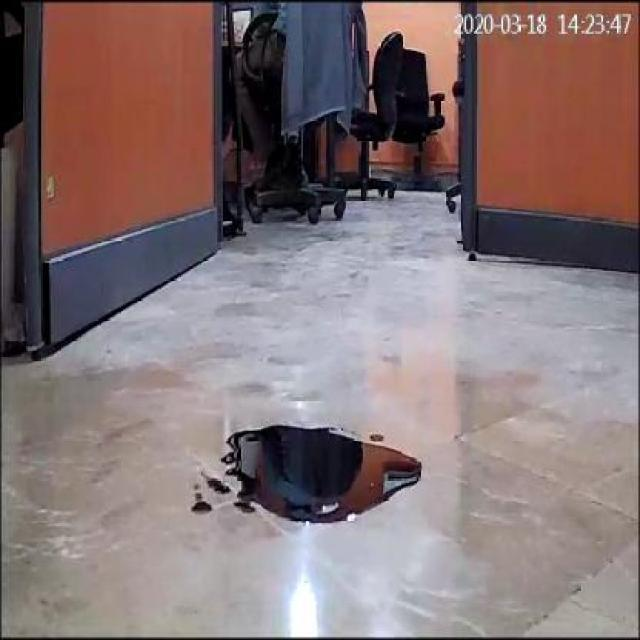spill: (222, 422, 424, 520)
